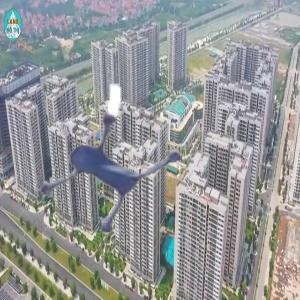drone: (16, 60, 219, 263)
